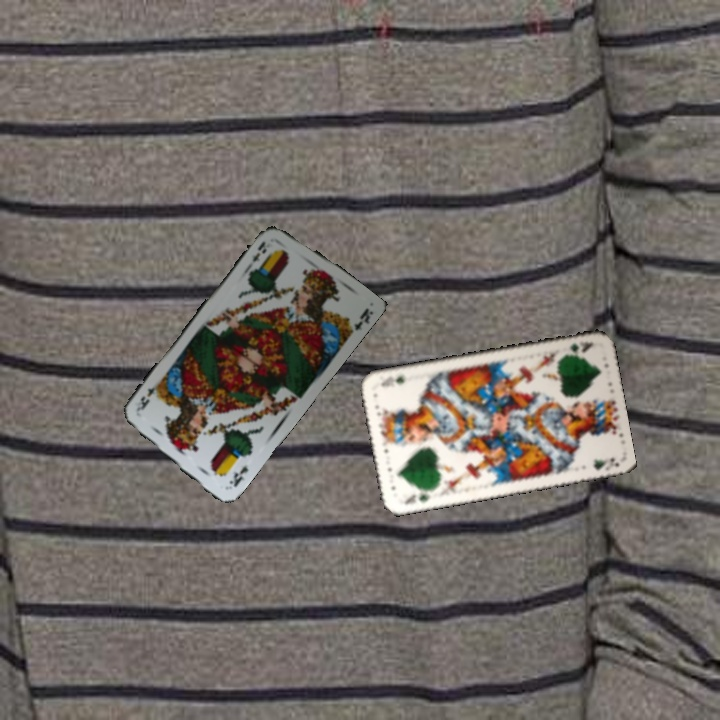EK: (225, 461, 251, 490), (248, 237, 269, 264)
GK: (559, 338, 598, 358), (395, 490, 433, 507)
